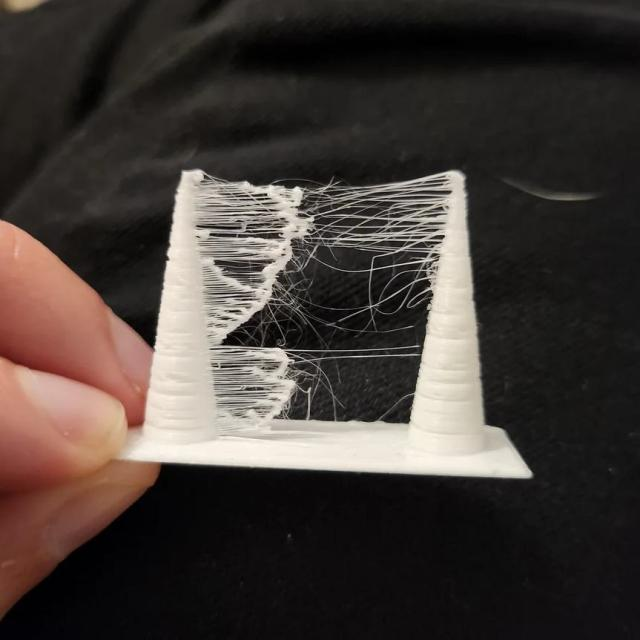Stringing: (202, 183, 452, 319), (205, 340, 303, 428)
